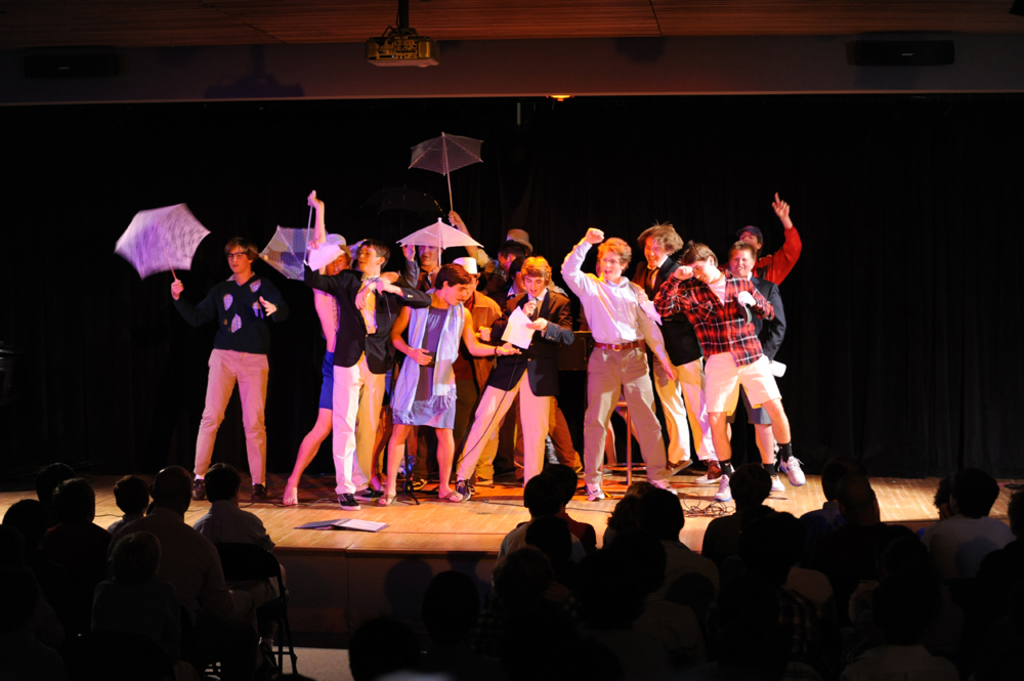Person: (273, 186, 807, 512), (348, 448, 1022, 679), (0, 457, 283, 679), (646, 231, 806, 497), (275, 184, 403, 511), (370, 259, 527, 507), (295, 234, 434, 511), (555, 222, 683, 501), (178, 206, 279, 518), (721, 186, 802, 357)
